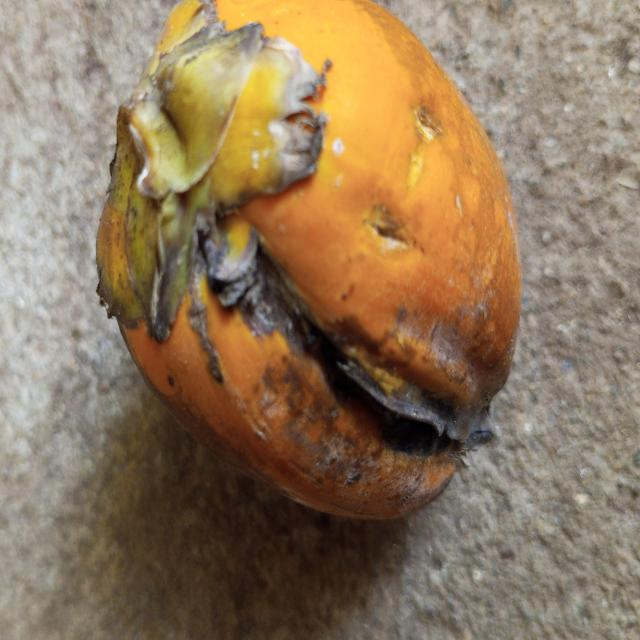damaged: (94, 0, 523, 524)
